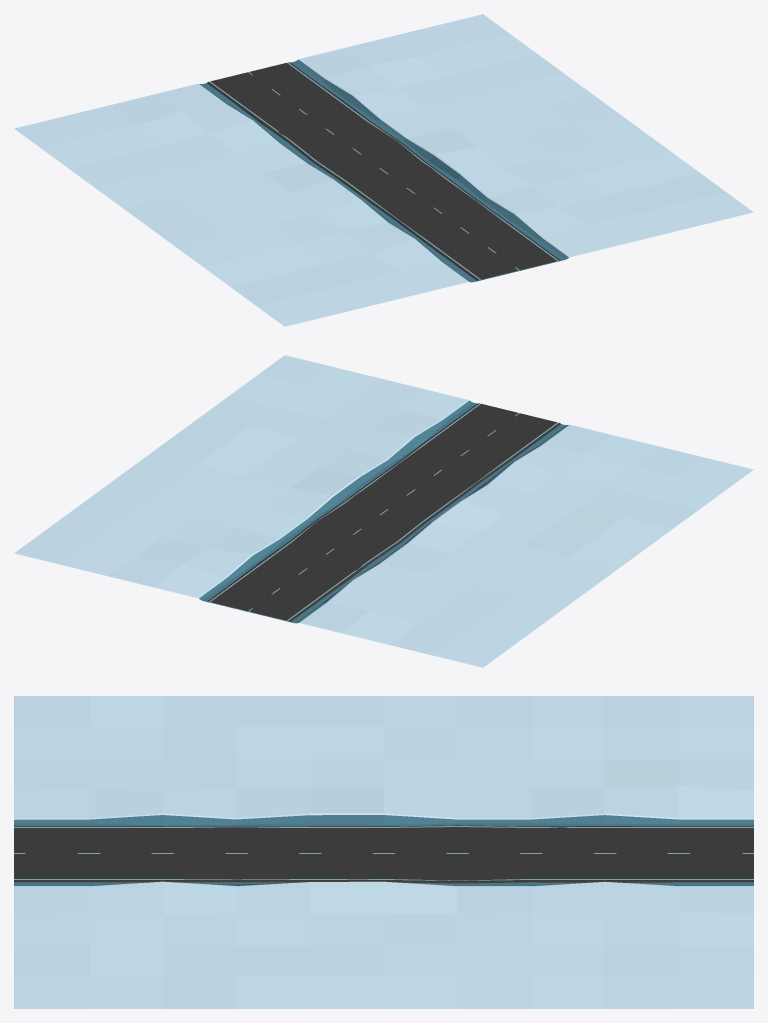
File: model_road_snow_straight_01.fbx
3 views of the same model, one above another, from view 1: azimuth 30°, elevation 25°; view 2: azimuth 150°, elevation 25°; view 3: azimuth 270°, elevation 25° (orthographic). The views are drawn at different scales.
Parts seen in each view (by area): view 1: model_road_snow_straight_01; view 2: model_road_snow_straight_01; view 3: model_road_snow_straight_01.
Boxes of the visible parts, box(x1,y1,x2,y2) form: model_road_snow_straight_01: box(14, 14, 753, 326); model_road_snow_straight_01: box(14, 355, 753, 667); model_road_snow_straight_01: box(14, 696, 753, 1008).
Bounding box in the file's own units: 6161 × 62.78 × 6161.
Materials: 1 (1 with a texture image).
